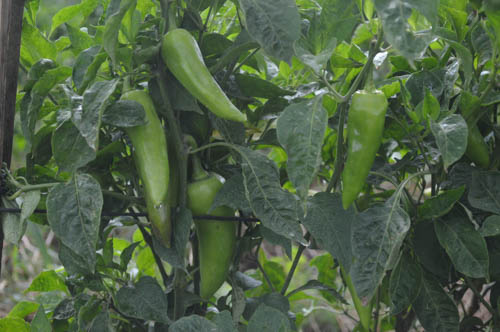ChiliPepper: (162, 29, 247, 123), (187, 175, 240, 301), (112, 91, 170, 202), (341, 92, 385, 209)
